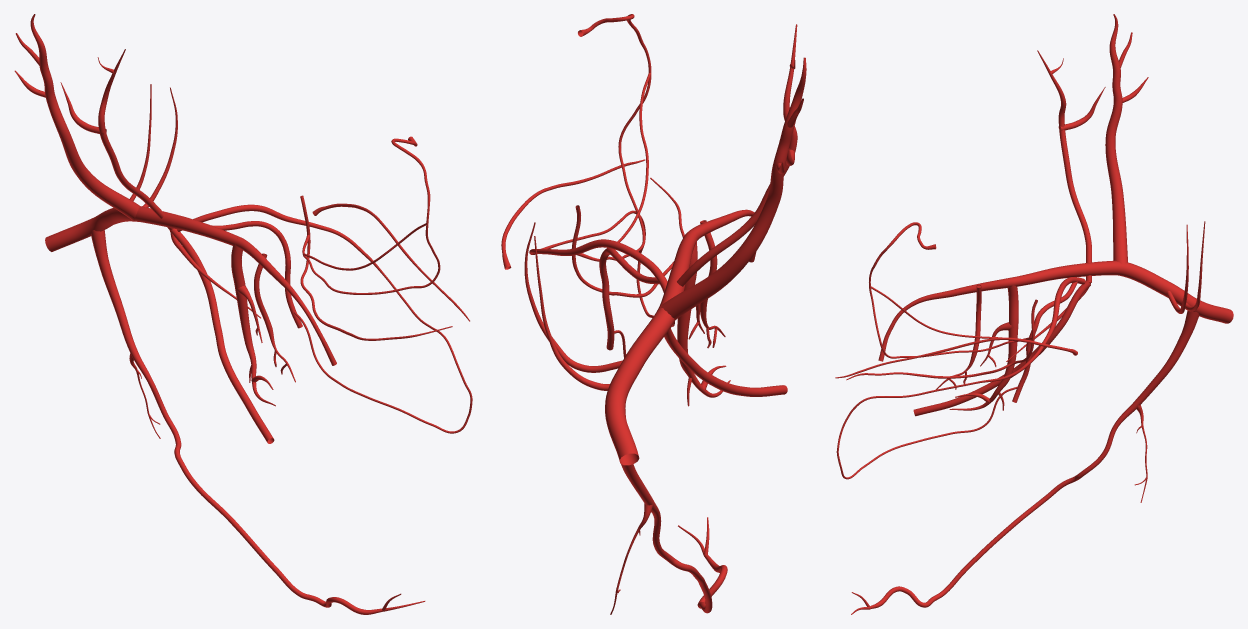
The model's file is circulatorio-maxillary-artery-r.glb.
3 renders of one model, left to right at view 1: azimuth 30°, elevation 25°; view 2: azimuth 150°, elevation 25°; view 3: azimuth 270°, elevation 25°, orthographic. The views are drawn at different scales.
Parts seen in each view (by area): view 1: Maxillary artery.r, Inferior alveolar artery.r, Posterior deep temporal artery.r, Posterior lateral nasal branches of sphenopalatine artery..r, Buccal artery.r, Anterior deep temporal artery.r, Infra-orbital artery.r, Descending palatine artery.r, Posterior septal branches of sphenopalatine artery.r, Artery of pterygoid canal.r, ?x.r; view 2: Maxillary artery.r, Posterior deep temporal artery.r, Posterior lateral nasal branches of sphenopalatine artery..r, Inferior alveolar artery.r, Anterior deep temporal artery.r, Buccal artery.r, Descending palatine artery.r, Artery of pterygoid canal.r, Accessory branch of middle meningeal artery.r, Middle meningeal artery.r, ?x.r, Infra-orbital artery.r (+2 smaller); view 3: Maxillary artery.r, Inferior alveolar artery.r, Posterior deep temporal artery.r, Posterior lateral nasal branches of sphenopalatine artery..r, Anterior deep temporal artery.r, Buccal artery.r, Infra-orbital artery.r, Posterior septal branches of sphenopalatine artery.r, ?x.r, Descending palatine artery.r.
Part boxes in pixels (bbox=[...]): Maxillary artery.r: bbox=[45, 206, 295, 406]; Inferior alveolar artery.r: bbox=[91, 230, 382, 614]; Posterior deep temporal artery.r: bbox=[14, 14, 140, 220]; Posterior lateral nasal branches of sphenopalatine artery..r: bbox=[300, 136, 452, 340]; Buccal artery.r: bbox=[170, 228, 274, 443]; Anterior deep temporal artery.r: bbox=[60, 49, 173, 230]; Infra-orbital artery.r: bbox=[235, 237, 336, 365]; Descending palatine artery.r: bbox=[211, 221, 302, 328]; Posterior septal branches of sphenopalatine artery.r: bbox=[315, 224, 472, 432]; Artery of pterygoid canal.r: bbox=[177, 204, 316, 231]; ?x.r: bbox=[312, 203, 469, 321]; Maxillary artery.r: bbox=[605, 220, 730, 465]; Posterior deep temporal artery.r: bbox=[661, 57, 806, 319]; Posterior lateral nasal branches of sphenopalatine artery..r: bbox=[571, 14, 684, 297]; Inferior alveolar artery.r: bbox=[621, 409, 727, 613]; Anterior deep temporal artery.r: bbox=[677, 24, 797, 286]; Buccal artery.r: bbox=[664, 328, 787, 396]; Descending palatine artery.r: bbox=[599, 248, 659, 350]; Artery of pterygoid canal.r: bbox=[547, 239, 667, 292]; Accessory branch of middle meningeal artery.r: bbox=[524, 222, 622, 372]; Middle meningeal artery.r: bbox=[534, 236, 609, 390]; ?x.r: bbox=[501, 159, 645, 269]; Infra-orbital artery.r: bbox=[684, 209, 756, 262]; Maxillary artery.r: bbox=[936, 260, 1233, 410]; Inferior alveolar artery.r: bbox=[870, 311, 1199, 609]; Posterior deep temporal artery.r: bbox=[1105, 14, 1148, 264]; Posterior lateral nasal branches of sphenopalatine artery..r: bbox=[846, 222, 1037, 380]; Anterior deep temporal artery.r: bbox=[1037, 50, 1105, 282]; Buccal artery.r: bbox=[913, 280, 1090, 416]; Infra-orbital artery.r: bbox=[878, 277, 1013, 361]; Posterior septal branches of sphenopalatine artery.r: bbox=[836, 341, 1046, 479]; ?x.r: bbox=[835, 337, 1077, 378]; Descending palatine artery.r: bbox=[1012, 281, 1077, 402].
Size of the model in its own units: 0.062 by 0.1129 by 0.0799.
